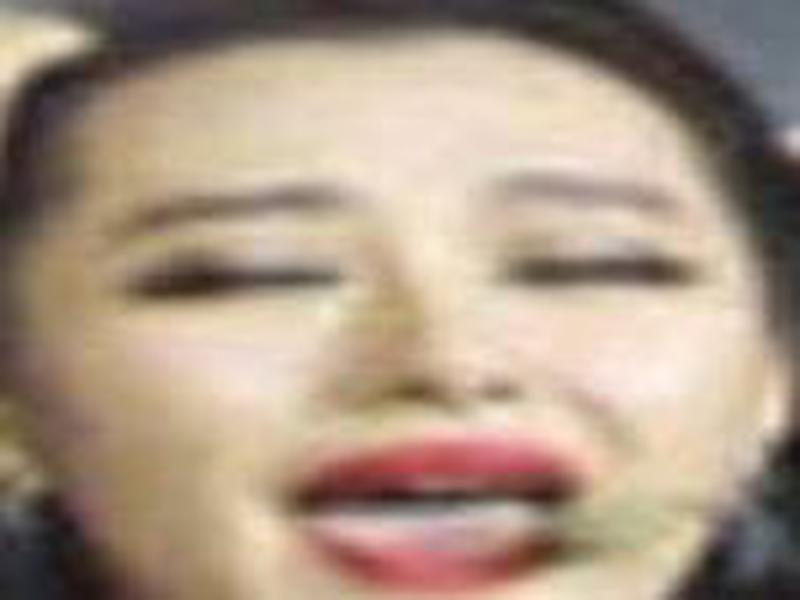without_mask: (33, 82, 765, 600)
